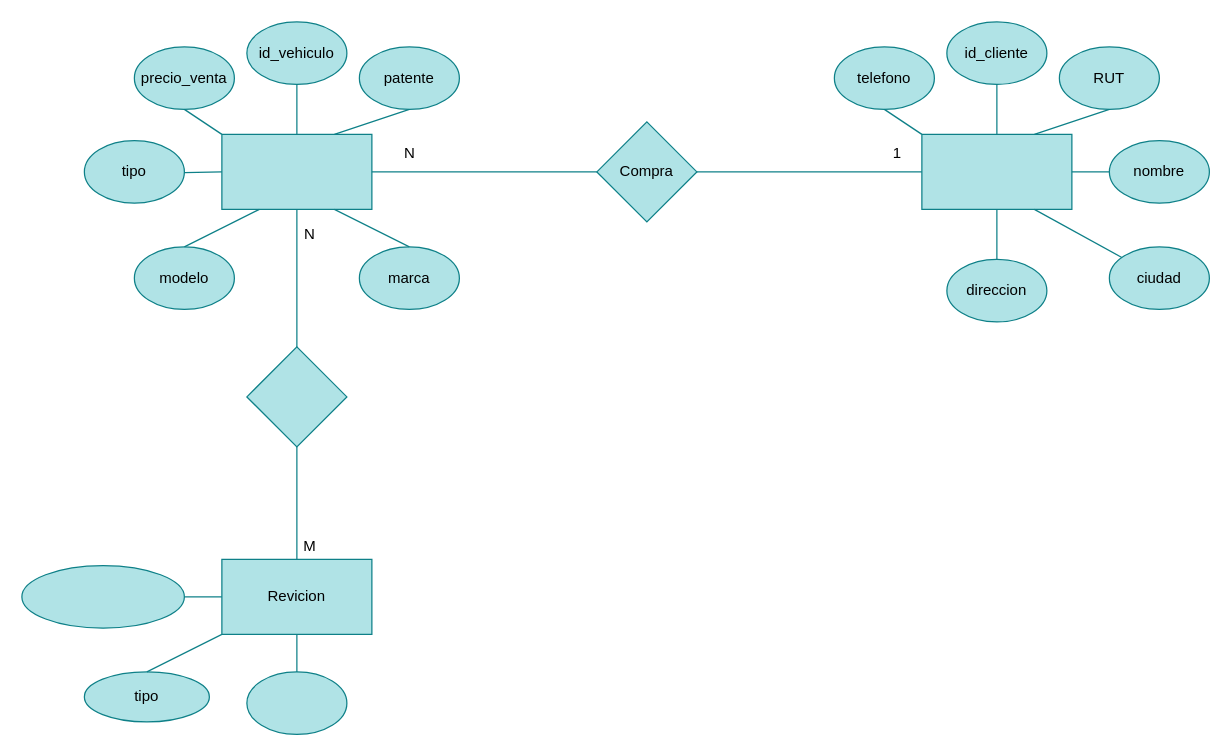
Image size: 1231x756. Some labels were removed from this diagram. The shapes that lost their labels are listed below. From the top down, each one's centre as x and y in pixels, then its label:
At pixel 296 171: "Vehículo".
At pixel 996 171: "Cliente".
At pixel 296 396: "Recibe".
At pixel 102 596: "descripcion".
At pixel 296 702: "id_revicion".
